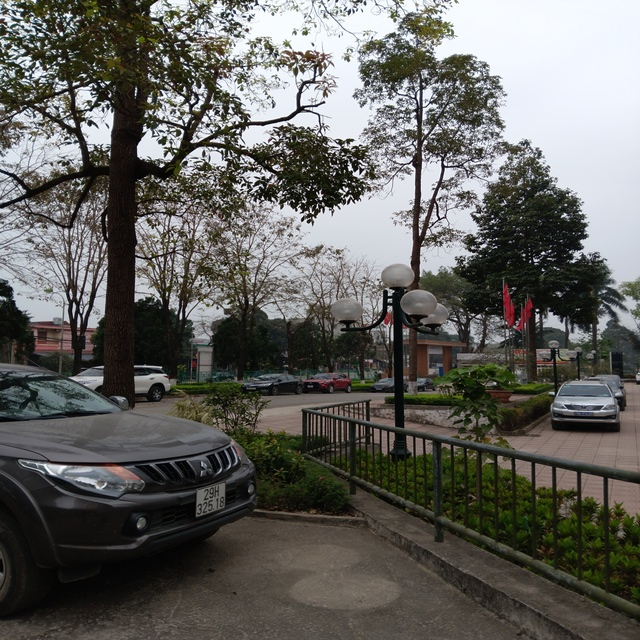cotden: (332, 269, 450, 467), (536, 335, 581, 412), (566, 342, 601, 384)
